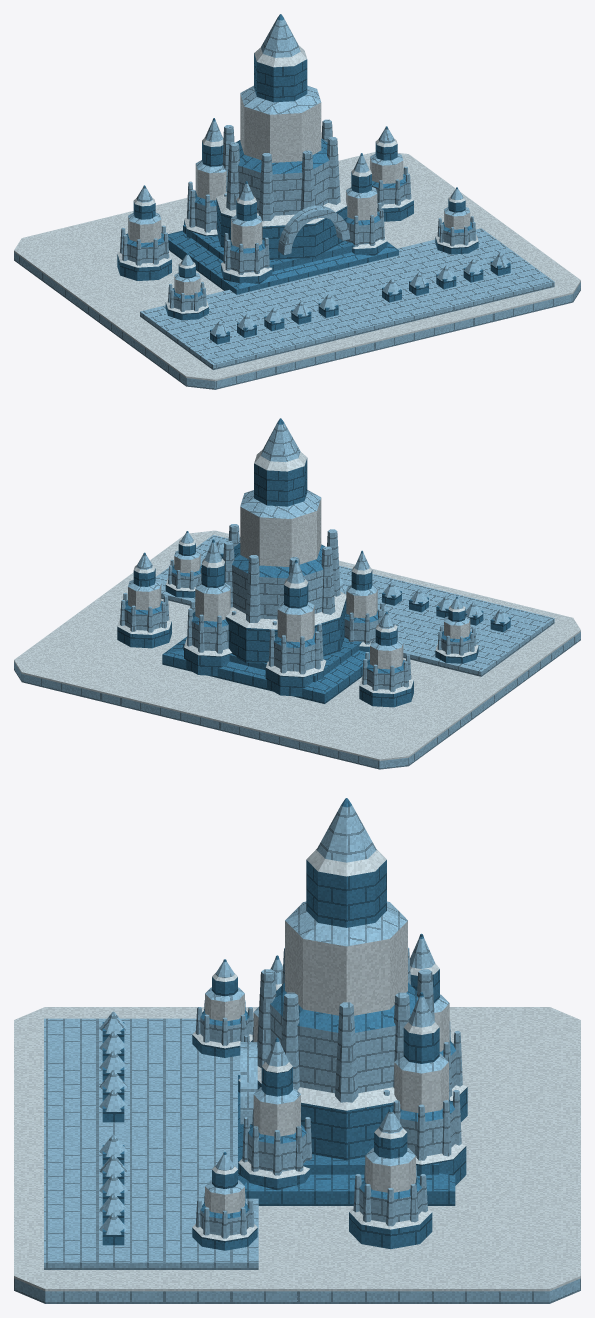
Rendered from harbin-ice-world.glb.
3 views of the same model, one above another, from view 1: azimuth 30°, elevation 25°; view 2: azimuth 150°, elevation 25°; view 3: azimuth 270°, elevation 25° (orthographic). The views are drawn at different scales.
Parts seen in each view (by area): view 1: 哈尔滨冰雪大世界; view 2: 哈尔滨冰雪大世界; view 3: 哈尔滨冰雪大世界.
Boxes of the visible parts, <box> form: 哈尔滨冰雪大世界: <box>14,14,580,389</box>; 哈尔滨冰雪大世界: <box>14,418,580,769</box>; 哈尔滨冰雪大世界: <box>14,798,580,1303</box>.
Bounding box in the file's own units: 10.6 × 6.38 × 9.
Materials: 3 (3 with a texture image).
